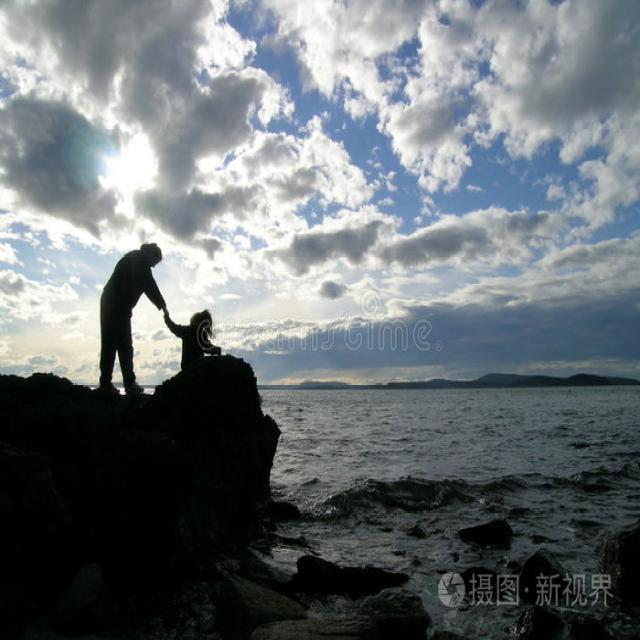reef: (214, 472, 476, 608)
